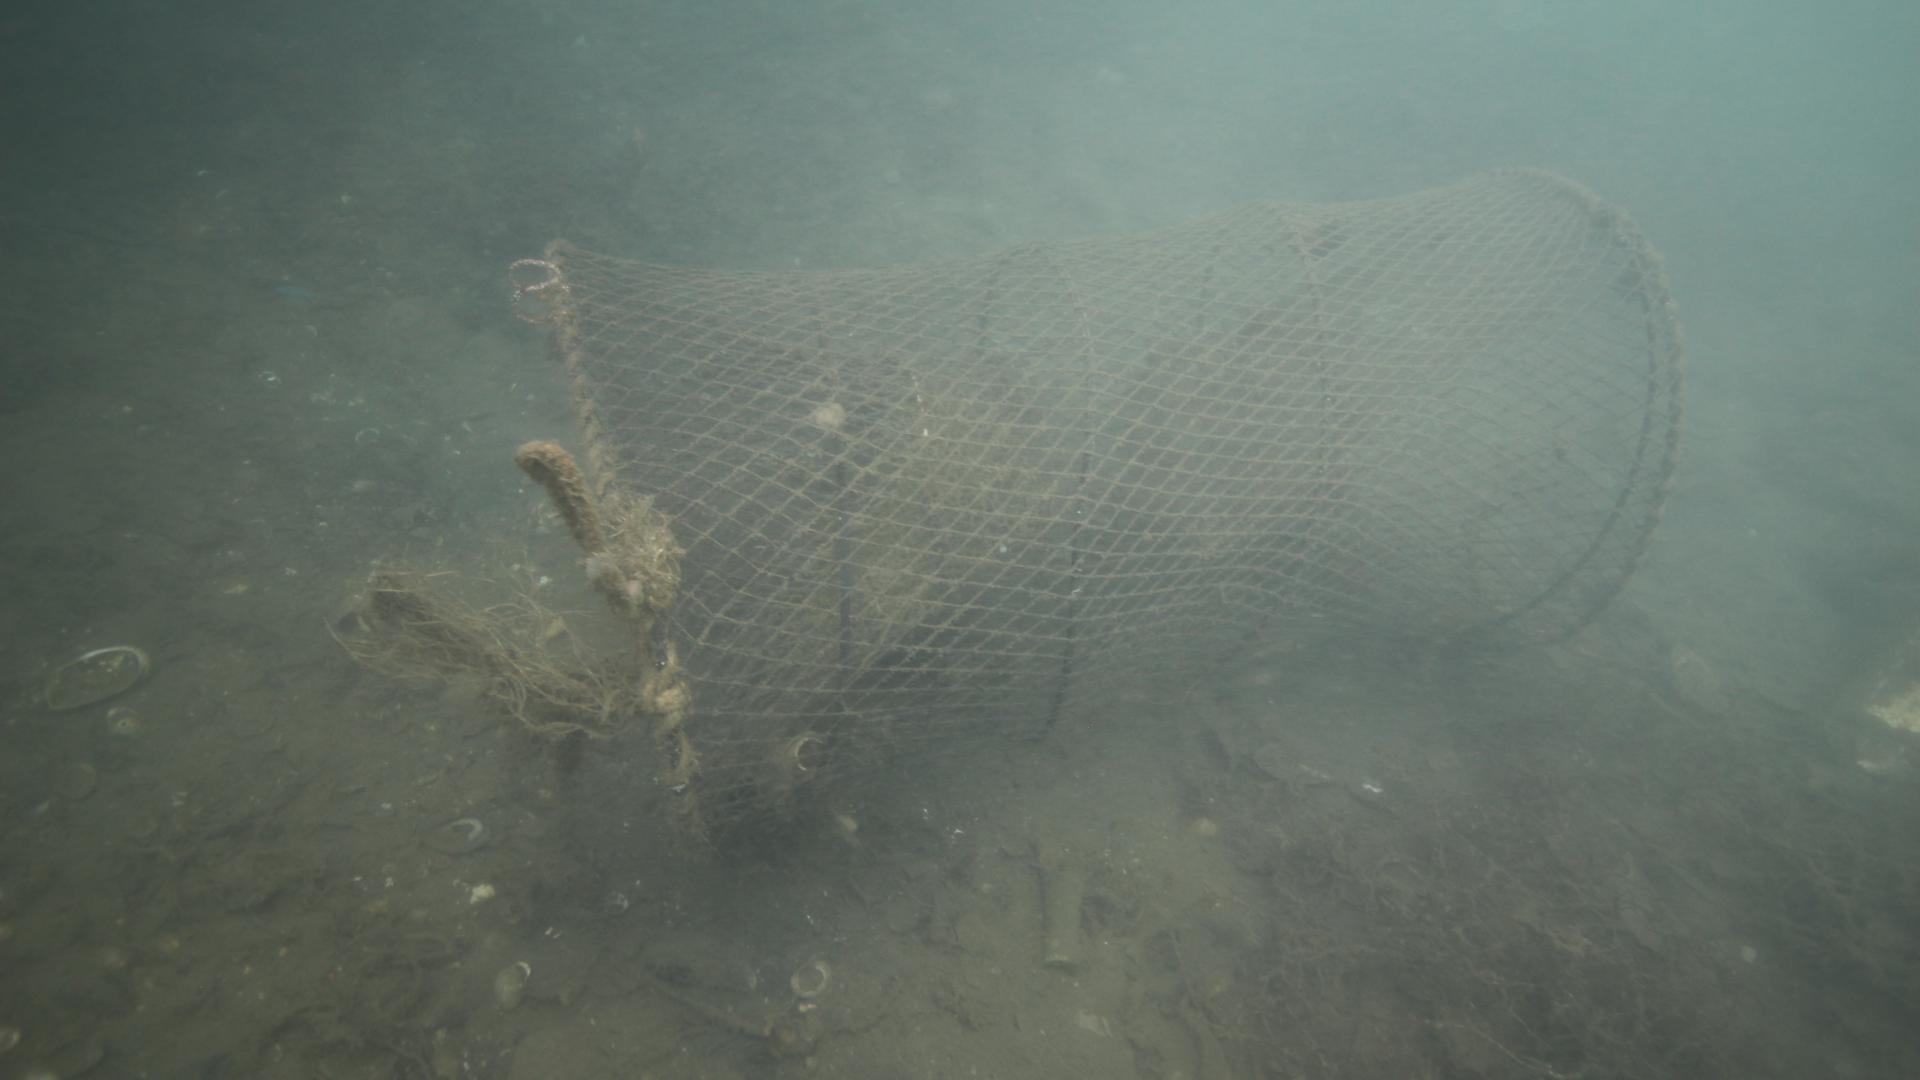bundle of ropes: (514, 439, 626, 609)
spring fish trap: (541, 162, 1687, 845)
